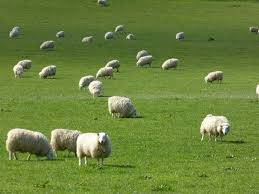sheep: (7, 127, 53, 160), (75, 134, 110, 166), (47, 129, 87, 154), (196, 114, 234, 140), (105, 95, 141, 122), (88, 82, 105, 99), (203, 72, 226, 84), (97, 68, 115, 82), (160, 60, 184, 70), (138, 56, 156, 69), (77, 74, 96, 85), (38, 67, 57, 78), (13, 66, 26, 82), (104, 60, 122, 70), (6, 27, 20, 38), (17, 61, 32, 70), (125, 33, 137, 42), (135, 51, 150, 58), (176, 31, 185, 42), (40, 42, 54, 49), (115, 25, 128, 32), (104, 31, 117, 37), (82, 36, 94, 42), (250, 26, 258, 34), (57, 31, 66, 36)
